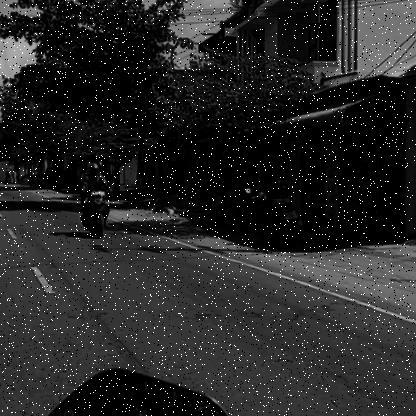motorcycle: (76, 189, 114, 240)
